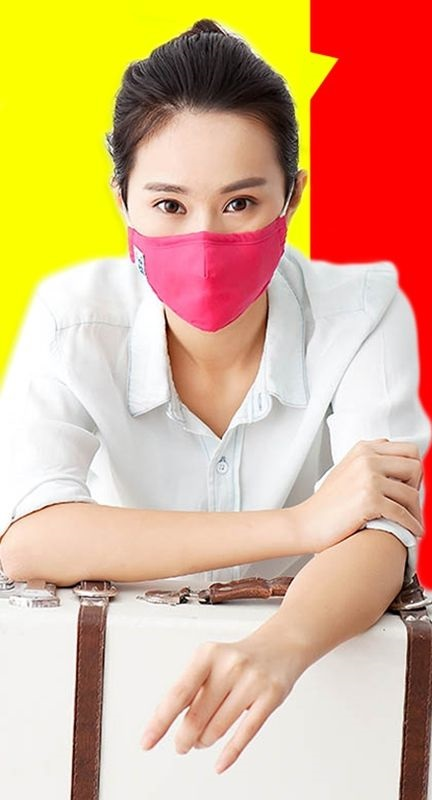face_mask: (134, 103, 281, 329)
